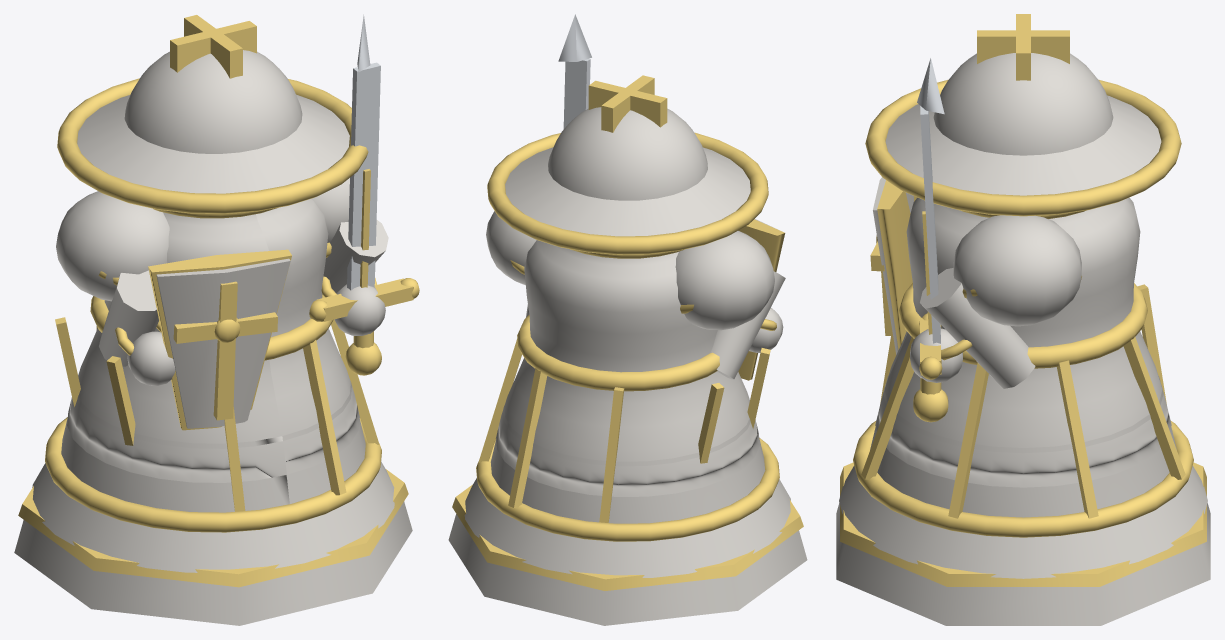
File: pawn.glb
The picture shows the model from 3 angles, left to right: view 1: azimuth 30°, elevation 25°; view 2: azimuth 150°, elevation 25°; view 3: azimuth 270°, elevation 25°; orthographic projection. The views are drawn at different scales.
Parts seen in each view (by area): view 1: body, gold, steel; view 2: body, gold, steel; view 3: body, gold, steel.
Boxes of the visible parts, x1,y1,x2,y2 form: body: [14, 50, 412, 625]; gold: [18, 15, 419, 587]; steel: [347, 14, 380, 290]; body: [448, 107, 807, 625]; gold: [452, 75, 803, 590]; steel: [558, 14, 591, 128]; body: [836, 53, 1210, 625]; gold: [840, 14, 1206, 586]; steel: [917, 58, 944, 343].
Size of the model in its own units: 0.6467 by 1.03 by 0.6467.
